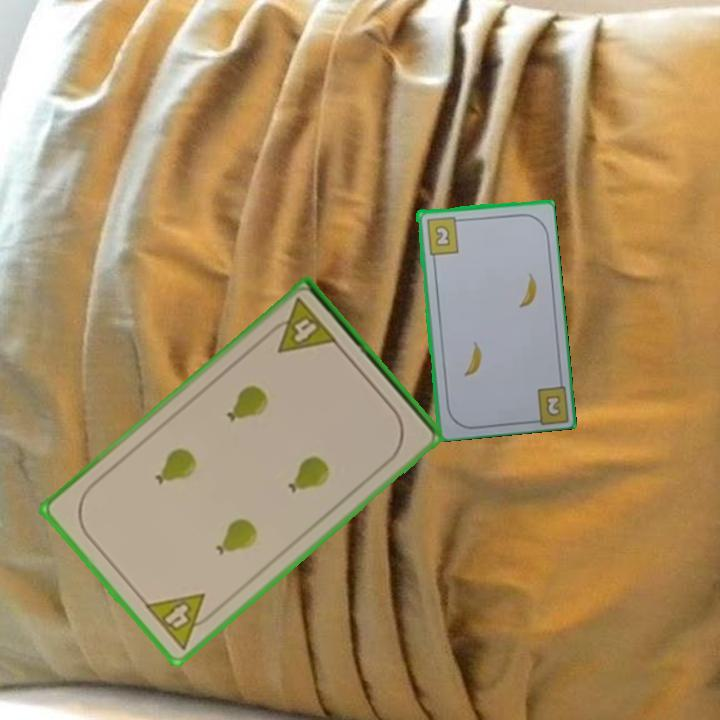2b: (423, 213, 465, 257), (544, 394, 561, 417)
4p: (141, 589, 221, 653), (262, 295, 341, 359)
